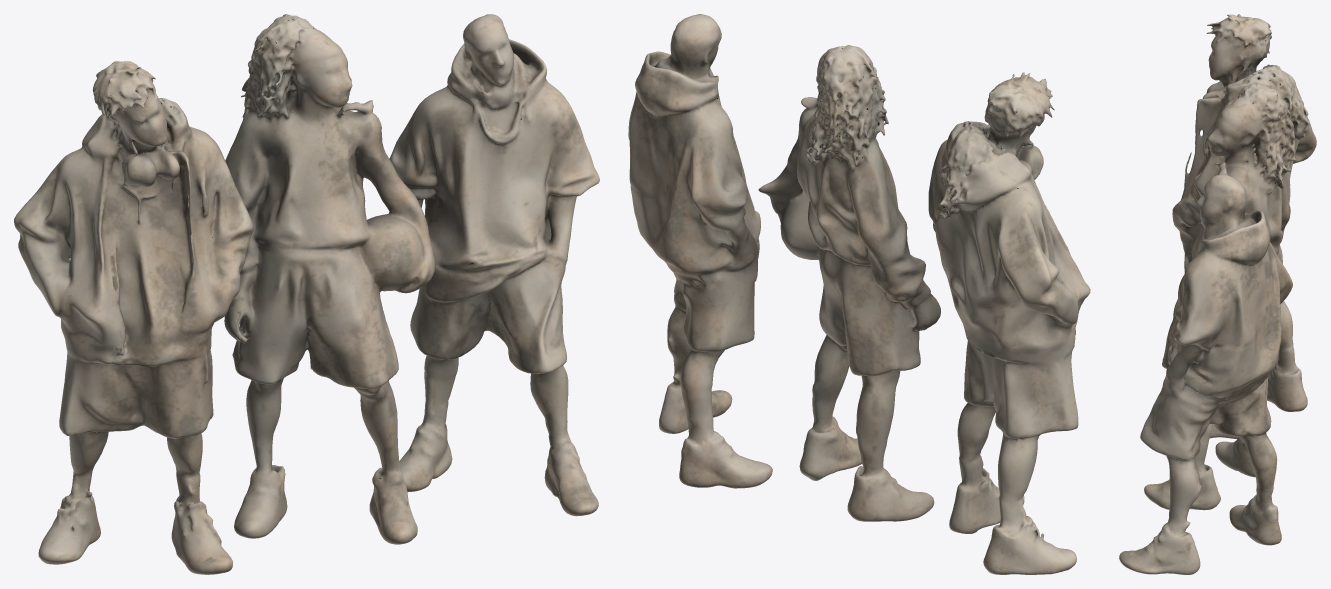
The model's file is crew.glb.
3 renders of one model, left to right at view 1: azimuth 30°, elevation 25°; view 2: azimuth 150°, elevation 25°; view 3: azimuth 270°, elevation 25°, orthographic. The views are drawn at different scales.
Visible parts, largest first — view 1: crew; view 2: crew; view 3: crew.
Part boxes in pixels (bbox=[...]): crew: bbox=[14, 14, 599, 574]; crew: bbox=[628, 14, 1090, 574]; crew: bbox=[1119, 14, 1316, 574].
Size of the model in its own units: 1.08 by 0.9975 by 0.4476.
Materials: 1 (1 with a texture image).
